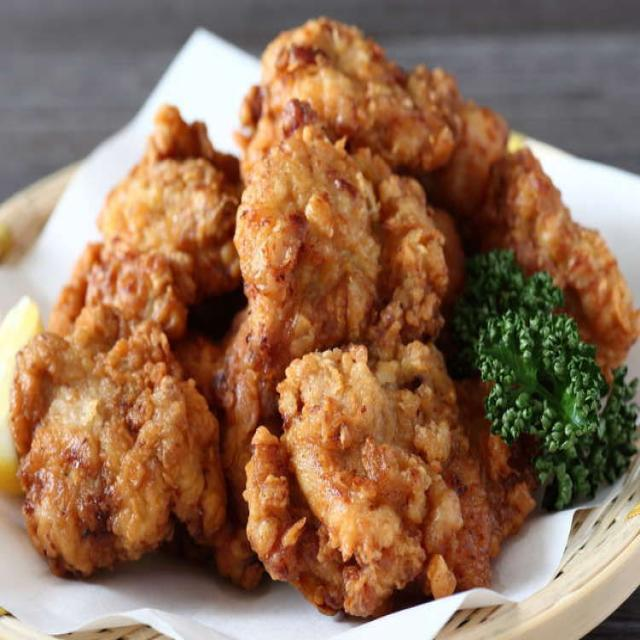Frango: (8, 14, 640, 618)
